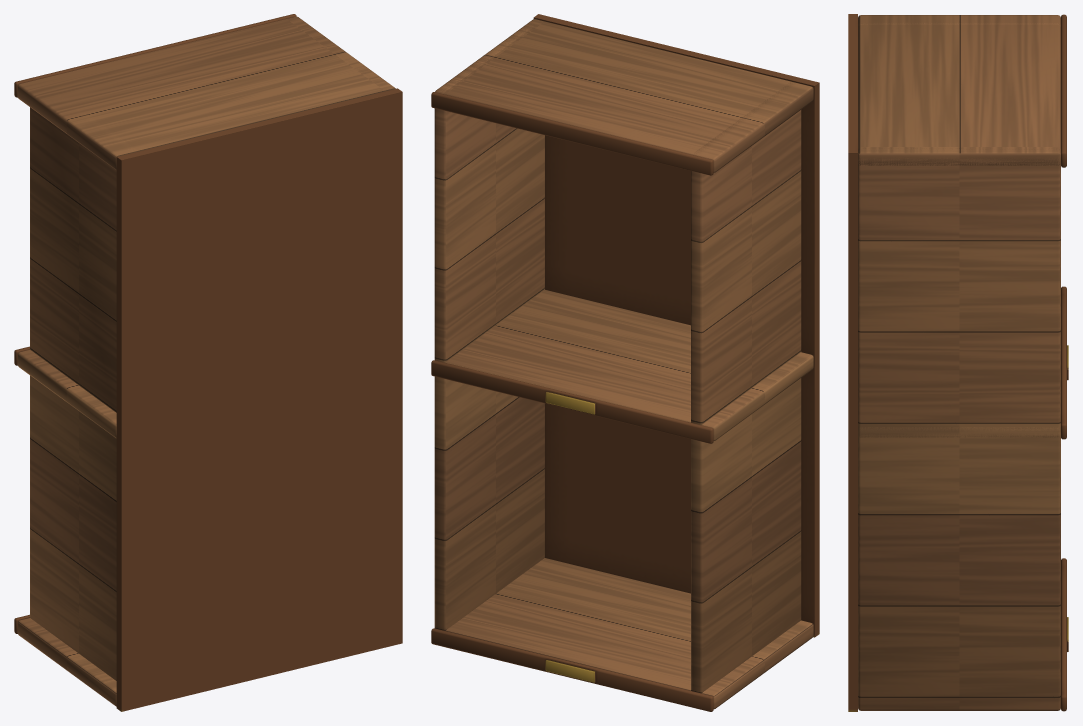
Rendered from itemshelf_1x2.fbx.
3 renders of one model, left to right at view 1: azimuth 30°, elevation 25°; view 2: azimuth 150°, elevation 25°; view 3: azimuth 270°, elevation 25°, orthographic.
Parts seen in each view (by area): view 1: itemshelf_1x2; view 2: itemshelf_1x2; view 3: itemshelf_1x2.
Boxes of the visible parts, box(x1,y1,x2,y2) form: itemshelf_1x2: box(14, 14, 402, 711); itemshelf_1x2: box(431, 14, 819, 711); itemshelf_1x2: box(848, 14, 1068, 711).
Bounding box in the file's own units: 0.68 × 1.28 × 0.456.
